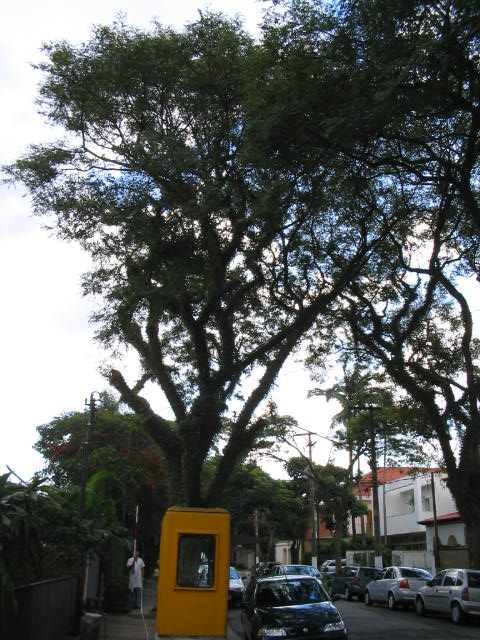crown: (4, 8, 374, 342)
stick: (125, 503, 147, 609)
tree: (1, 6, 376, 615)
